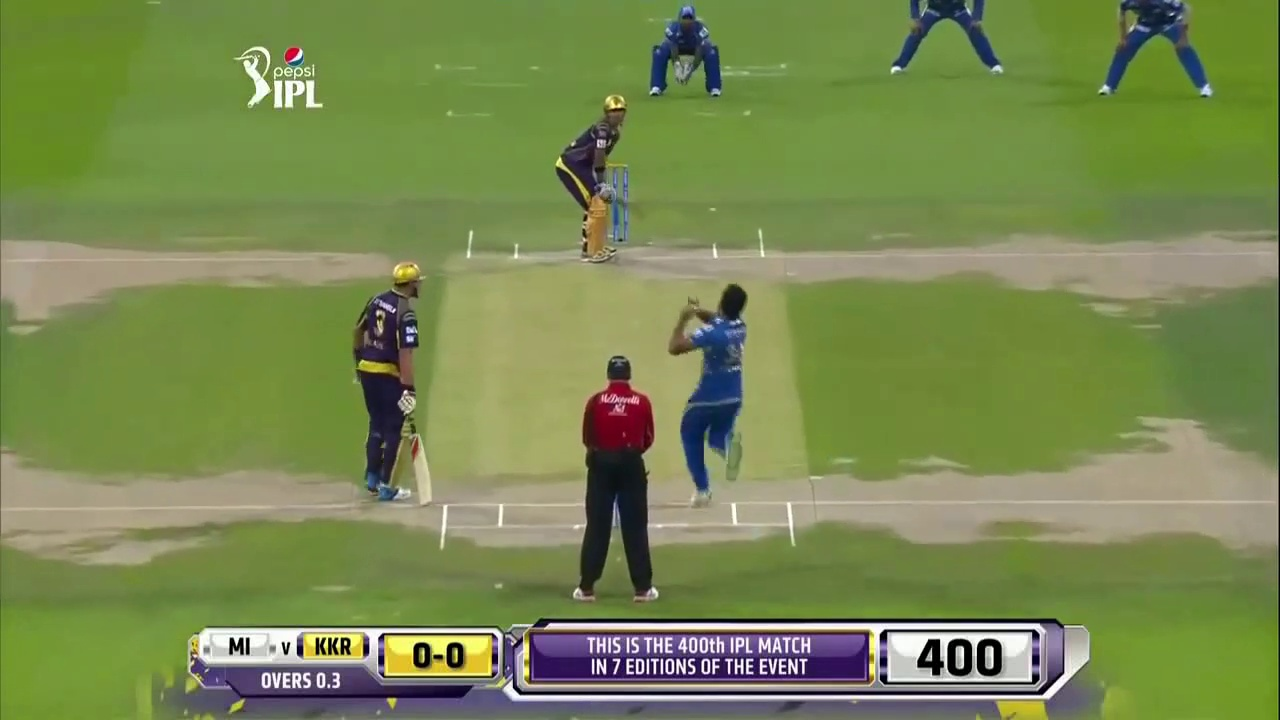bat: (407, 415, 435, 508)
